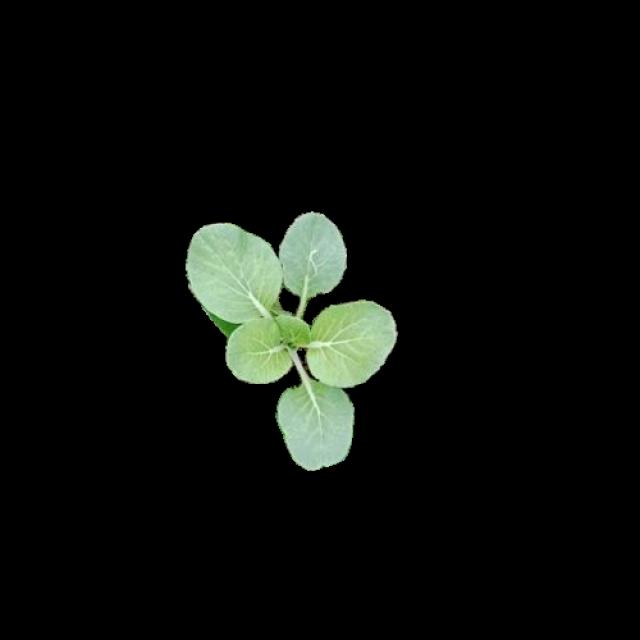not-mature: (184, 212, 398, 470)
unhealthy: (278, 216, 346, 293)
